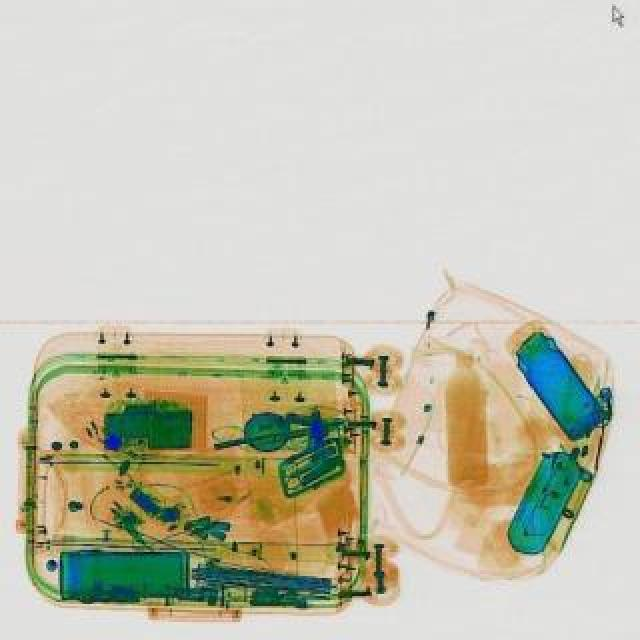pliers: (274, 450, 326, 490)
